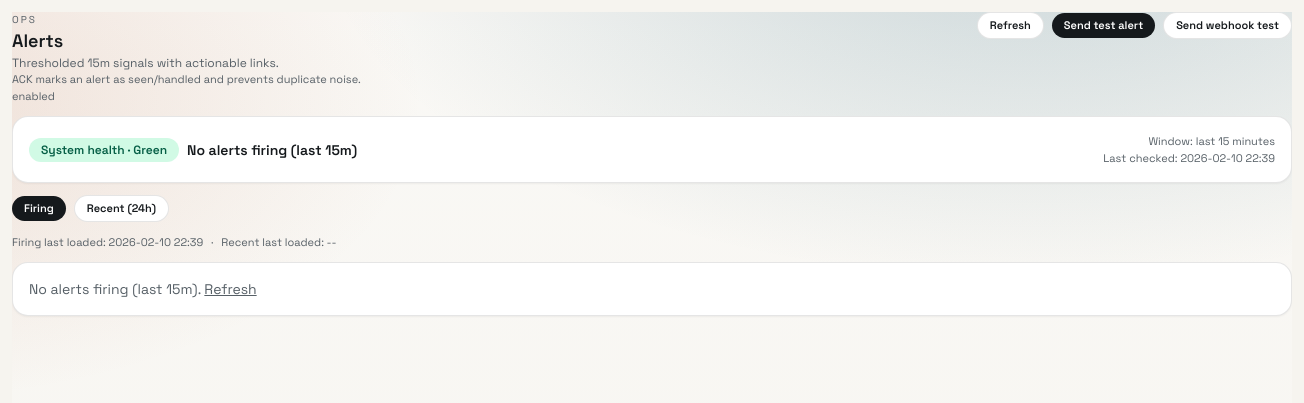
it: Ops alerts webhook test UI › shows banner when webhook test fails
Click the button "Send webhook test". click: (1228, 25)
box: [1163, 12, 1292, 38]
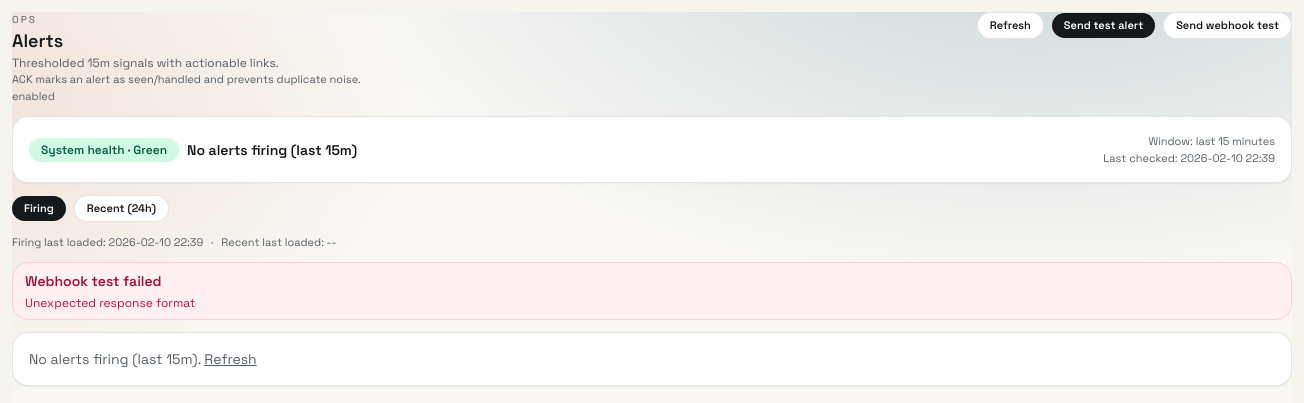
Now the text "Webhook test failed" is shown, box [25, 272, 162, 290]
